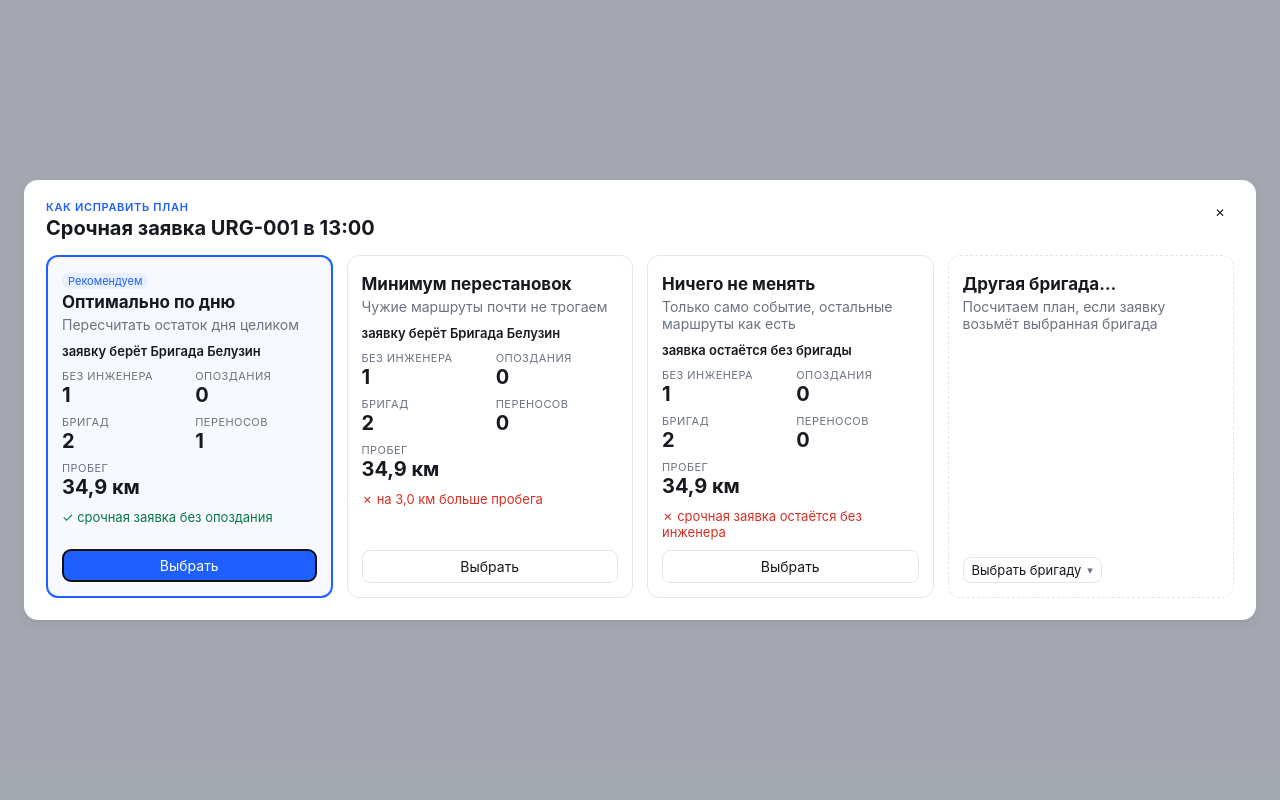
Scenario: ChoiceDialog: отдать заявку бригаде › opens the list of brigades and disables the ones that cannot take the request
The image size is (1280, 800).
Click the button "Выбрать бригаду ▾" at coordinates (1032, 570), box [962,557,1102,583]
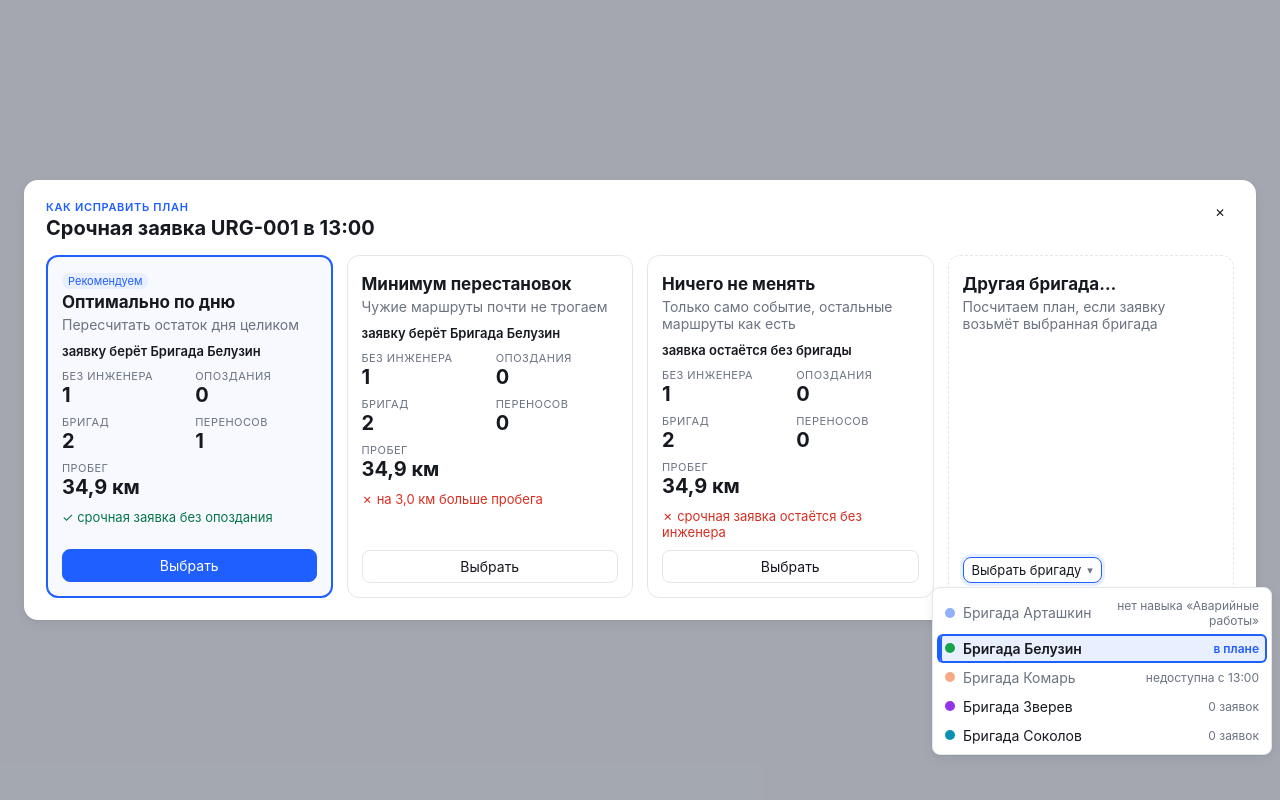
Check: the options read "Бригада Арташкиннет навыка «Аварийные работы»", "Бригада Белузинв плане", "Бригада Комарьнедоступна с 13:00", "Бригада Зверев0 заявок", "Бригада Соколов0 заявок", in this order, box [937,592,1267,634]; [937,634,1267,663]; [945,669,1259,686]; [945,698,1259,715]; [945,727,1259,744]
Check: the option "Бригада Белузин в плане" is shown, box [937,634,1267,663]
